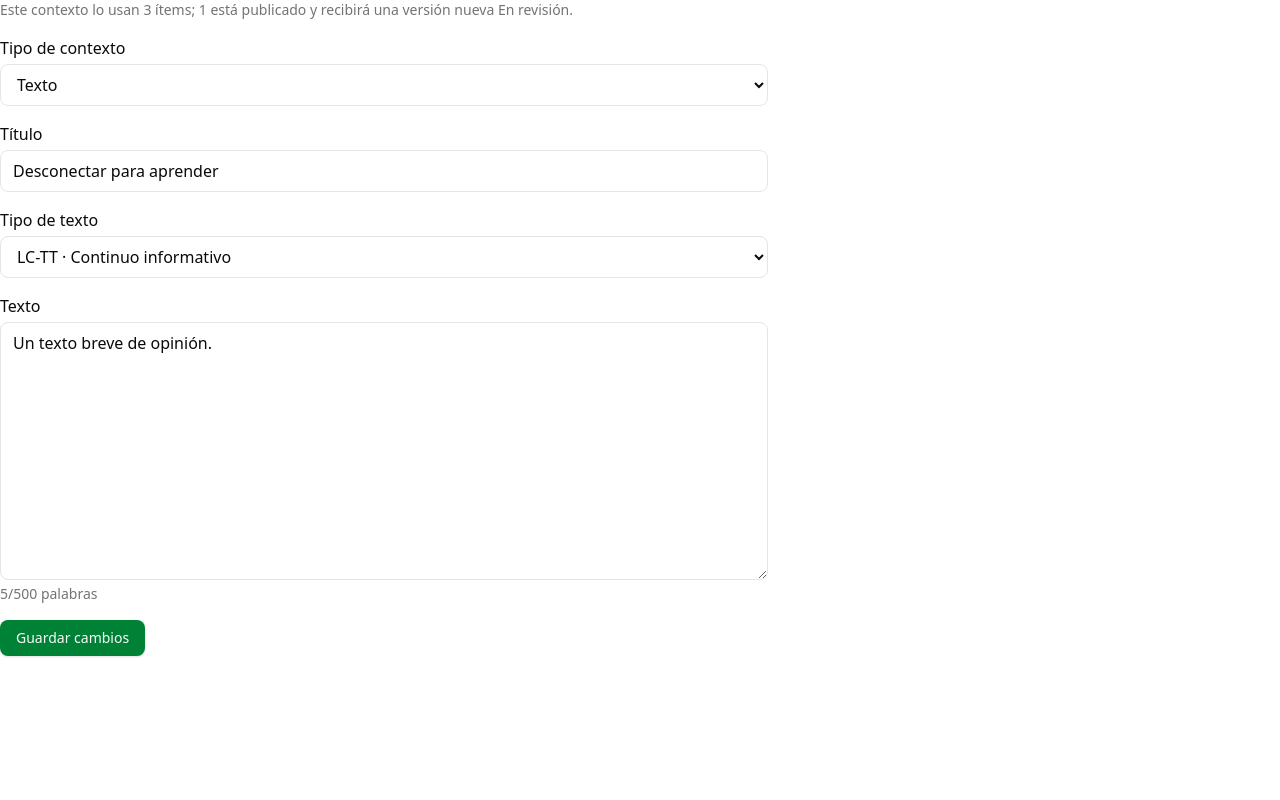
Test: editor de contextos › avisa a cuántos ítems afecta el cambio antes de confirmarlo
Replace the text in the text box labelled "Texto" with "Texto corregido por el docente." at (384, 451), box [0,322,768,580]
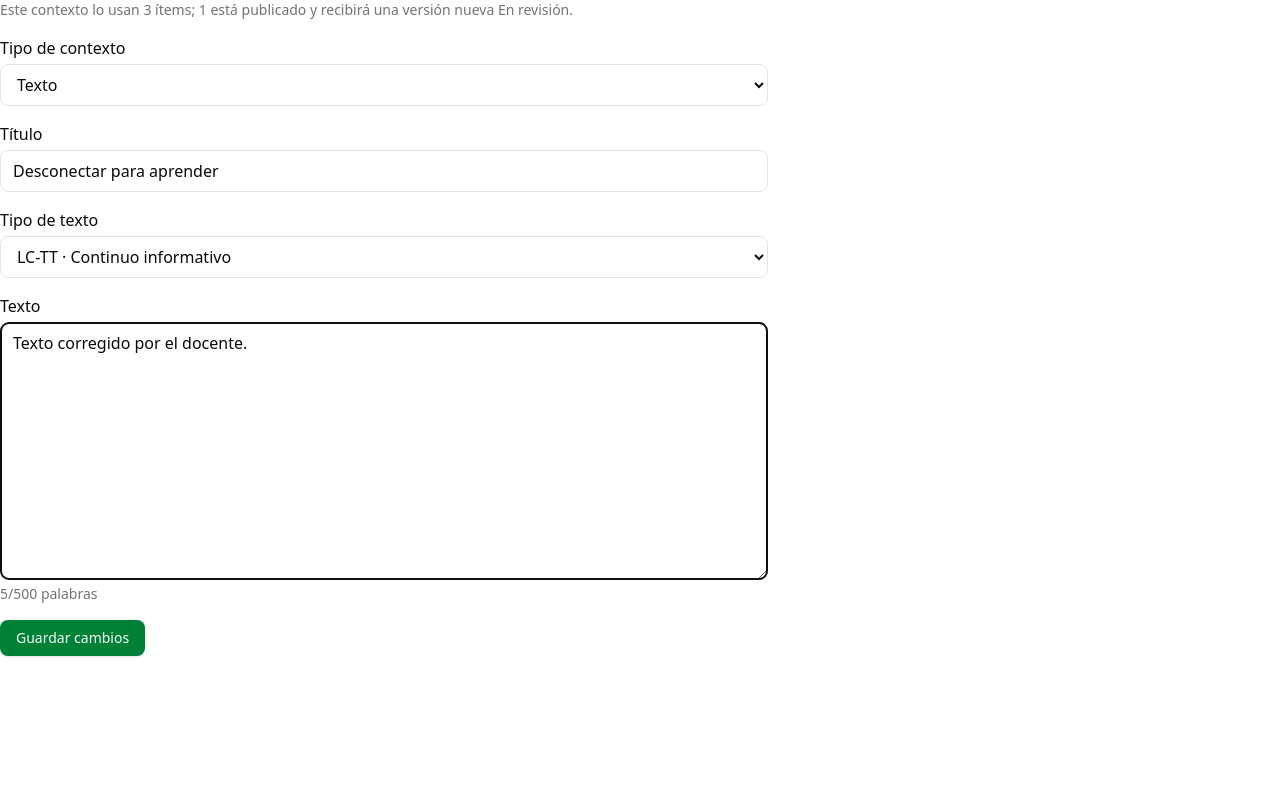
Click the button "Guardar cambios" at (73, 638), box [0,620,145,656]
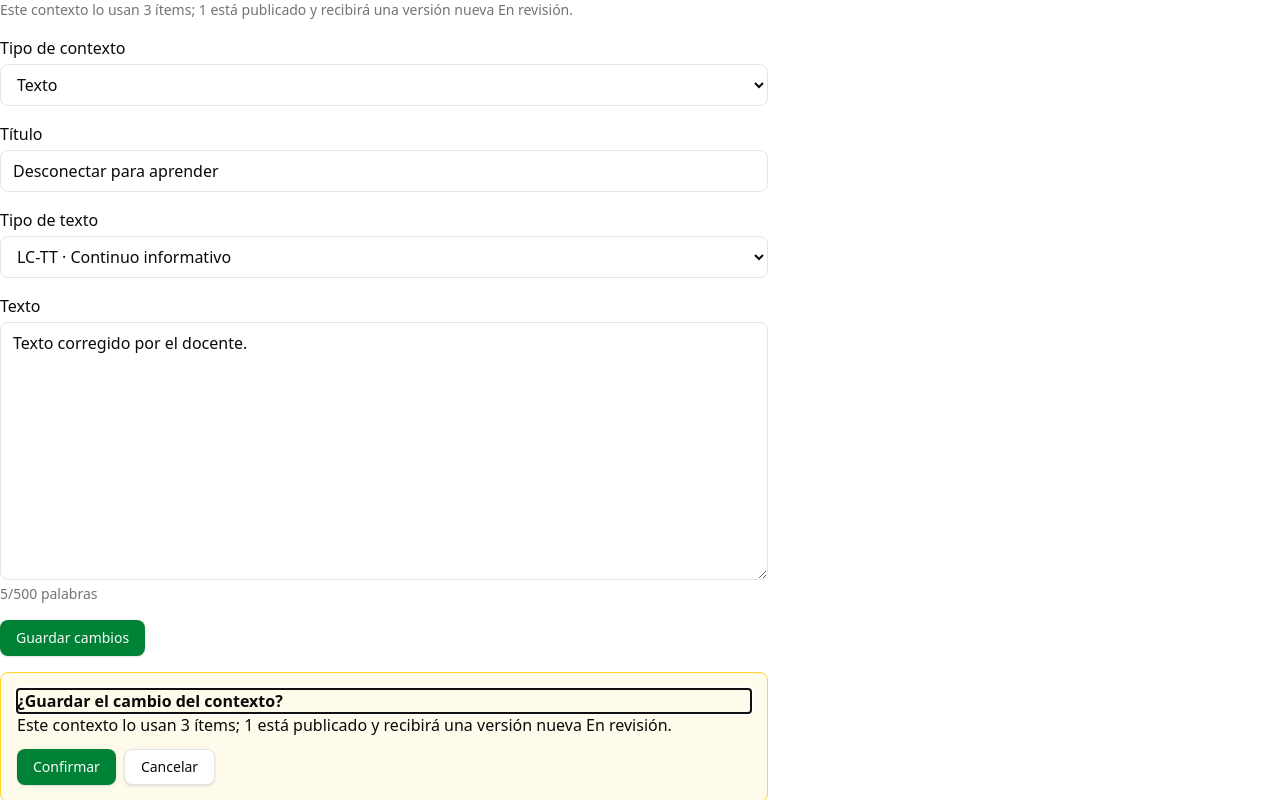
Now the dialog "¿Guardar el cambio del contexto?" shows "Este contexto lo usan 3 ítems; 1 está publicado y recibirá una versión nueva En revisión.", box [17,714,672,736]
Click the button "Confirmar" at (66, 767), box [17,749,116,785]
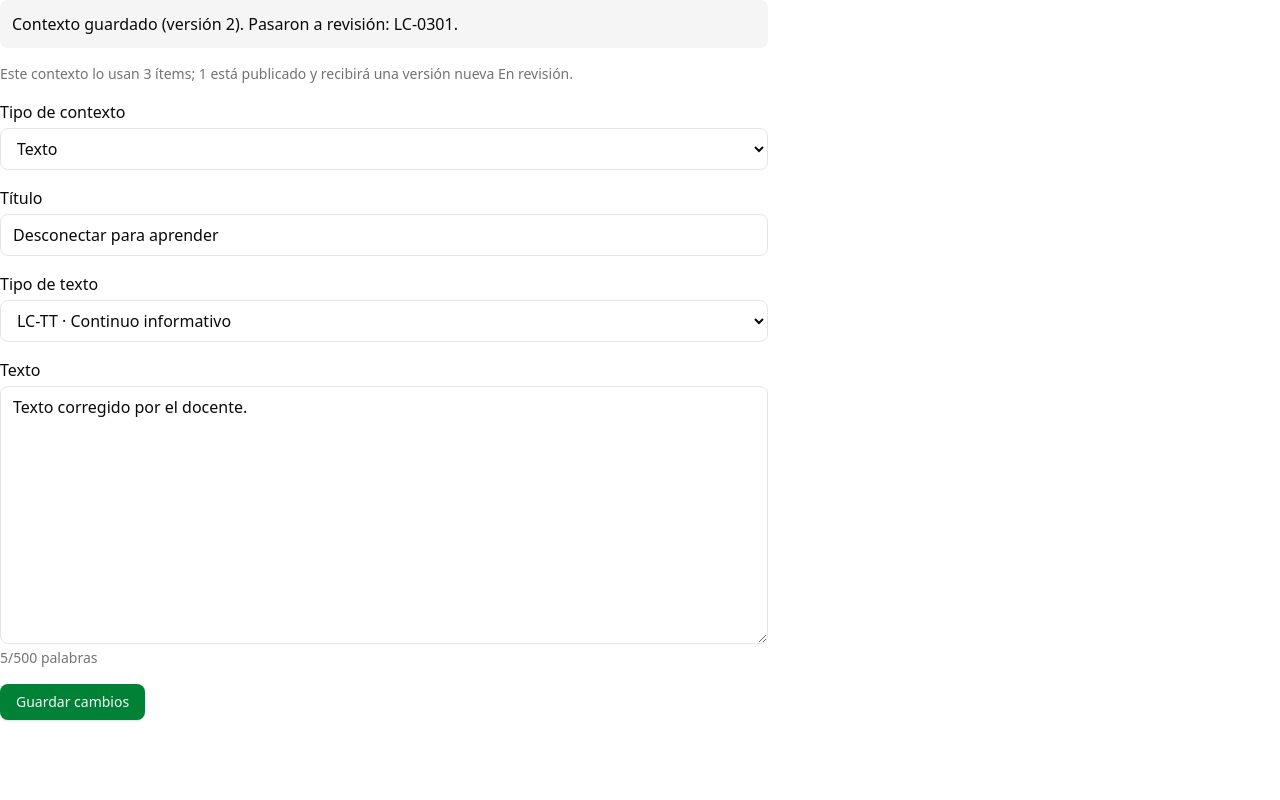
Now the message reads "Contexto guardado (versión 2). Pasaron a revisión: LC-0301.", box [12,13,458,35]
